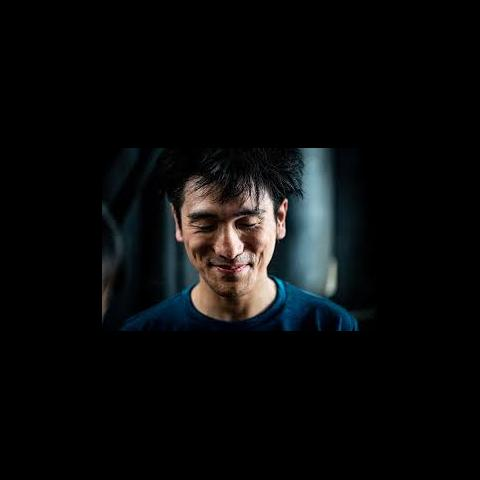closed: (184, 207, 269, 234)
